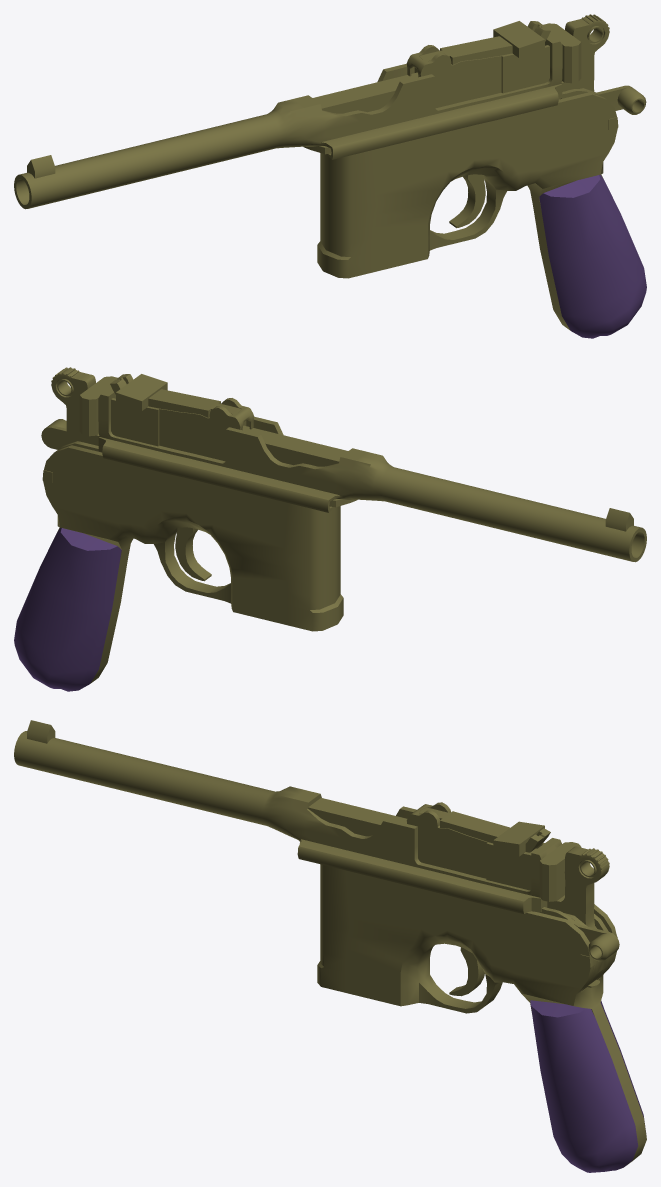
Rendered from mauser-low.fbx.
The picture shows the model from 3 angles, top to bottom: view 1: azimuth 30°, elevation 25°; view 2: azimuth 150°, elevation 25°; view 3: azimuth 330°, elevation 25°; orthographic projection.
Visible parts, largest first — view 1: Tube_1; view 2: Tube_1; view 3: Tube_1.
Part boxes in pixels (x1,y1,x2,y2): Tube_1: (14,14,646,338); Tube_1: (14,367,646,691); Tube_1: (14,720,646,1172).
Bounding box in the file's own units: 611 × 305 × 66.44.
